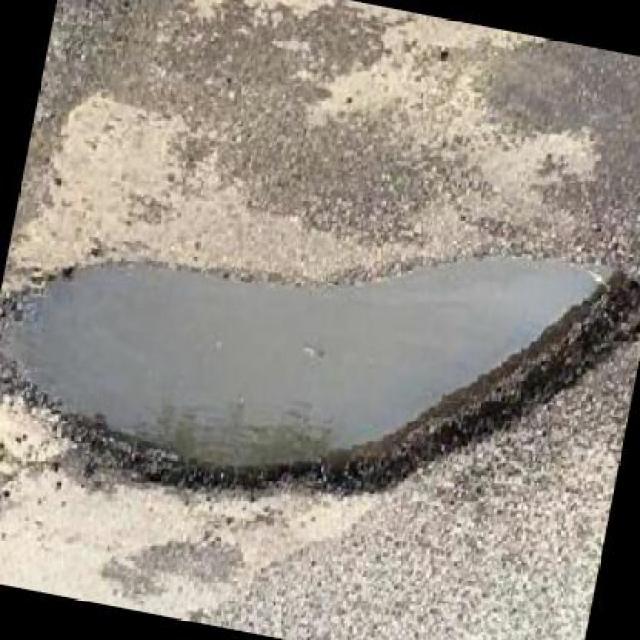pothole1: (0, 141, 638, 575)
